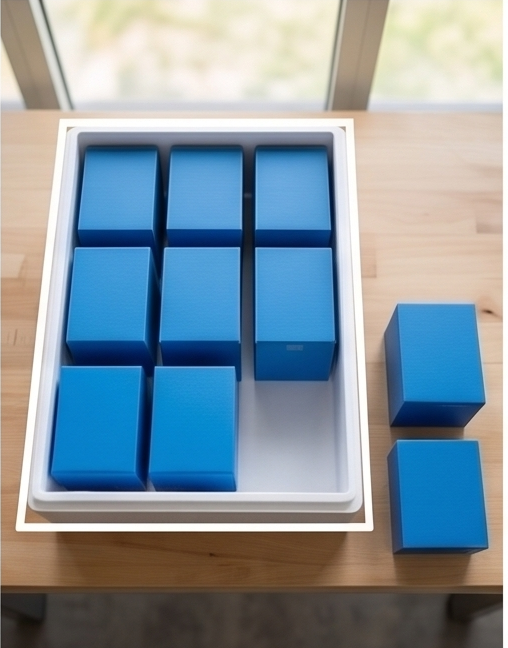blue_box: (383, 303, 486, 428), (51, 365, 151, 491), (65, 249, 160, 377), (387, 439, 490, 556), (149, 365, 238, 492), (160, 247, 242, 382), (255, 248, 336, 381), (78, 146, 164, 248), (254, 145, 335, 250), (166, 143, 243, 248)
container_box: (16, 117, 373, 532)
